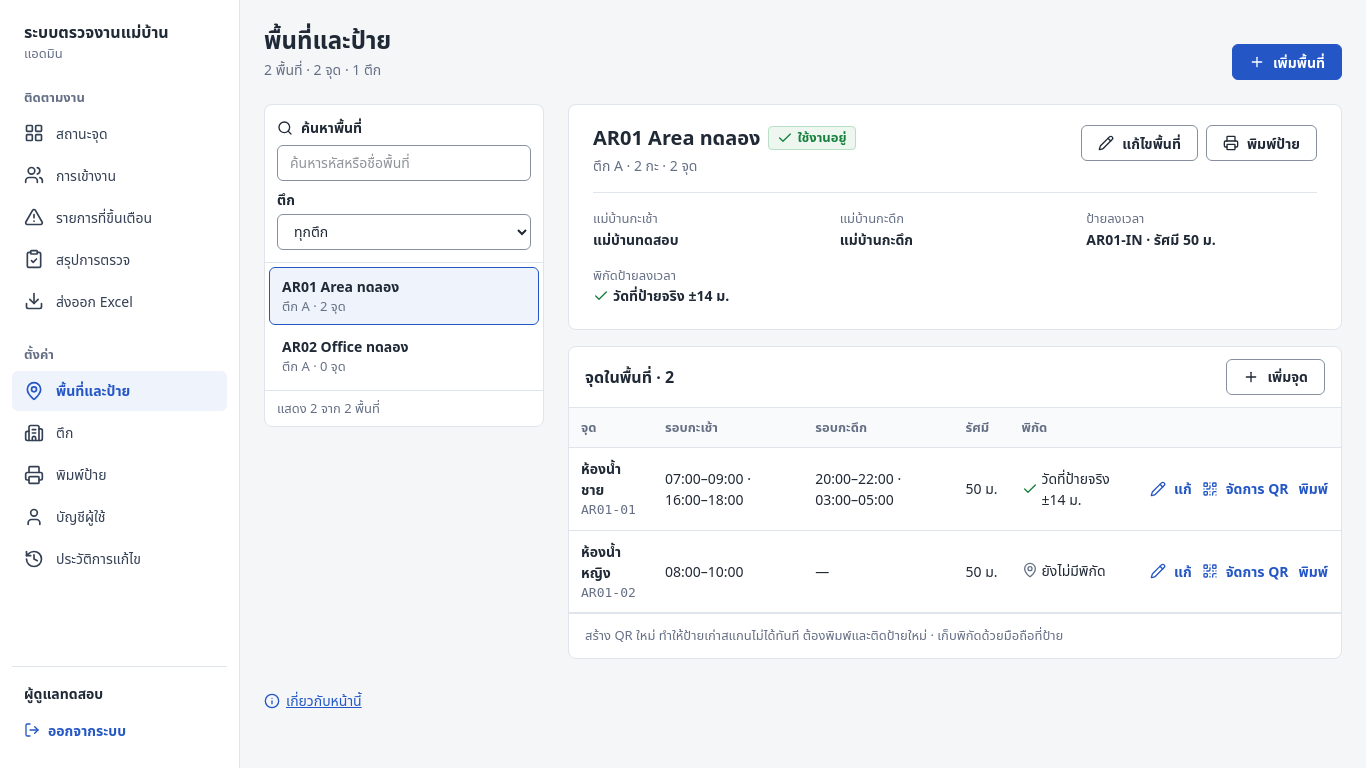
Test case: SignPanel (D4, facility-0045, 0038, 0021) › a sign with no location takes coordinates typed from a map, as not confirmed on site
Click the button with aria-label "แก้ไข AR01-02". click: point(1171, 571)
box: [1149,553,1193,589]
(page scrolled)
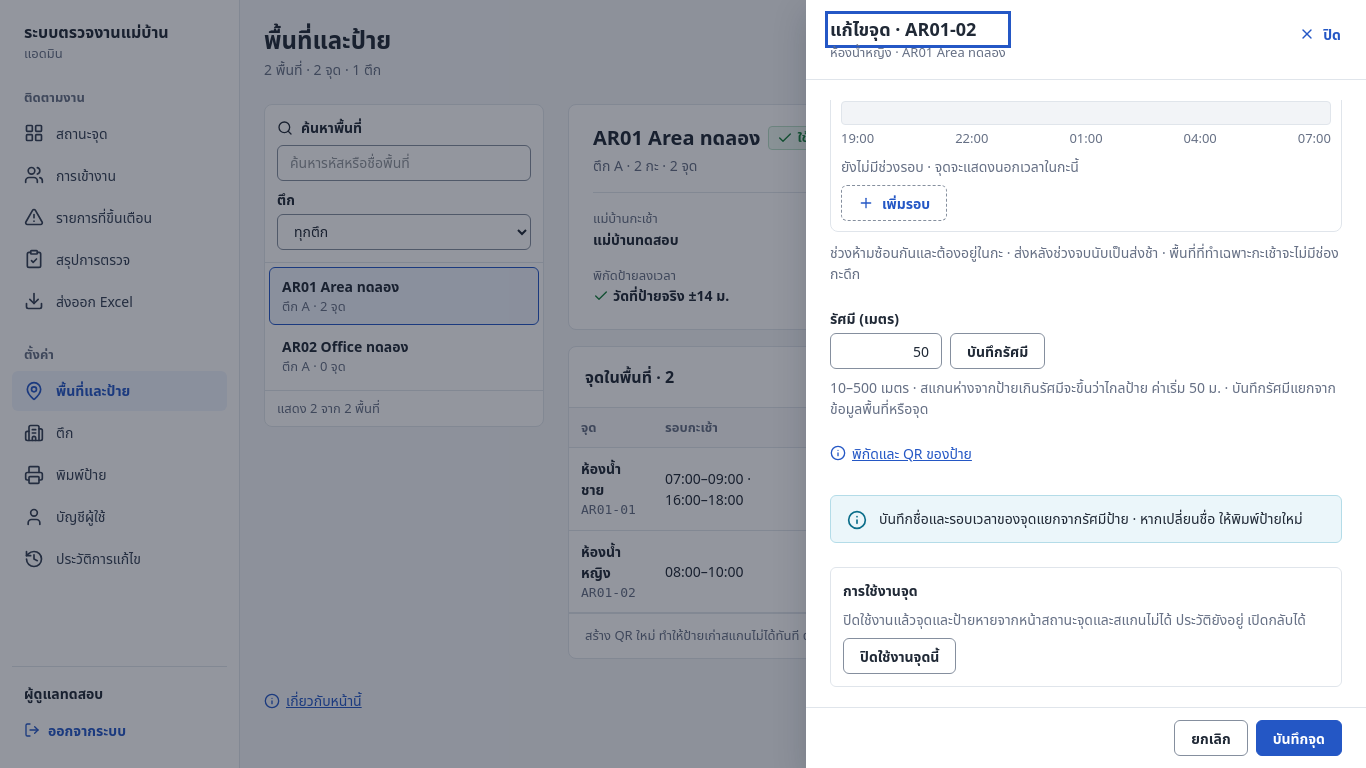
Click the heading "พิกัดและ QR ของป้าย". click: point(901, 453)
box: [830,444,972,462]
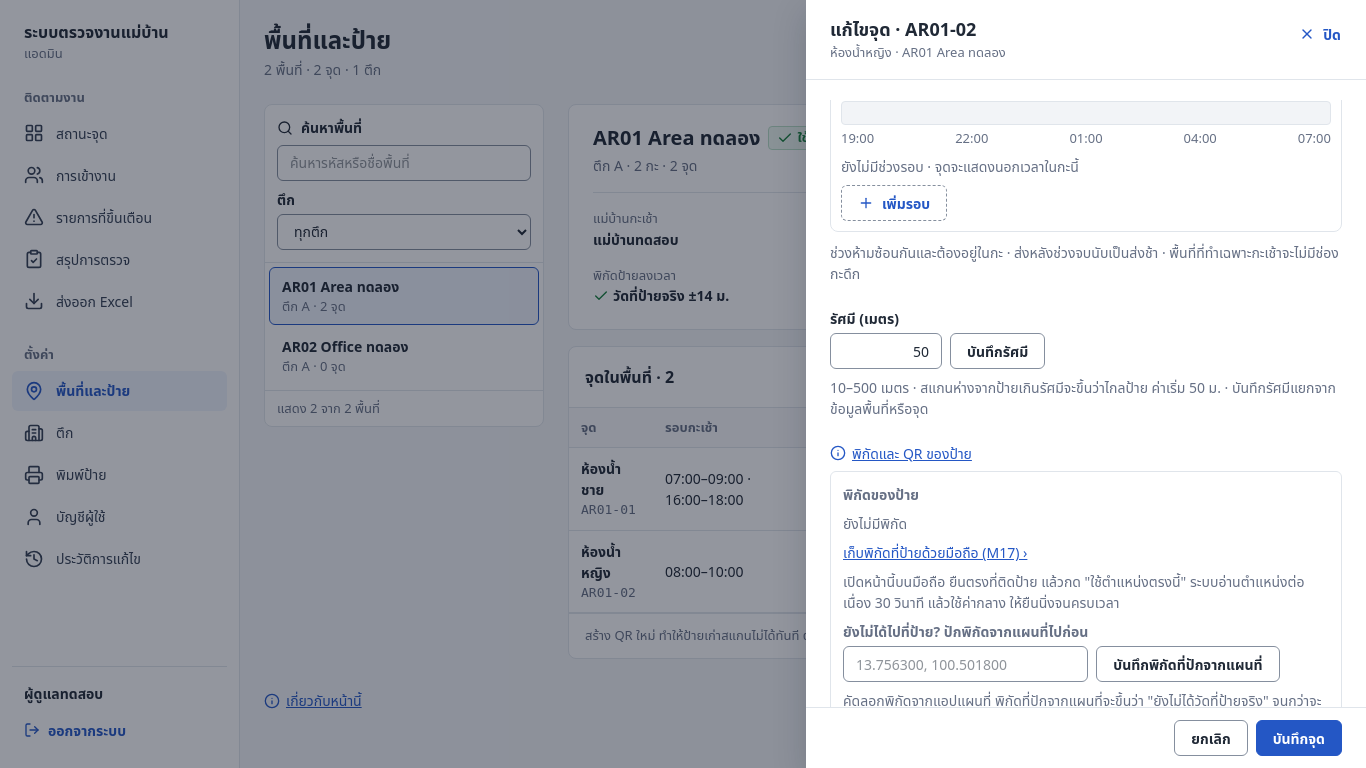
Expected: the text "ยังไม่มีพิกัด" is shown, [843,514,907,533]
Type "ตึก A" into the field labelled "ยังไม่ได้ไปที่ป้าย? ปักพิกัดจากแผนที่ไปก่อน". click: point(966, 664)
box: [843,646,1088,682]
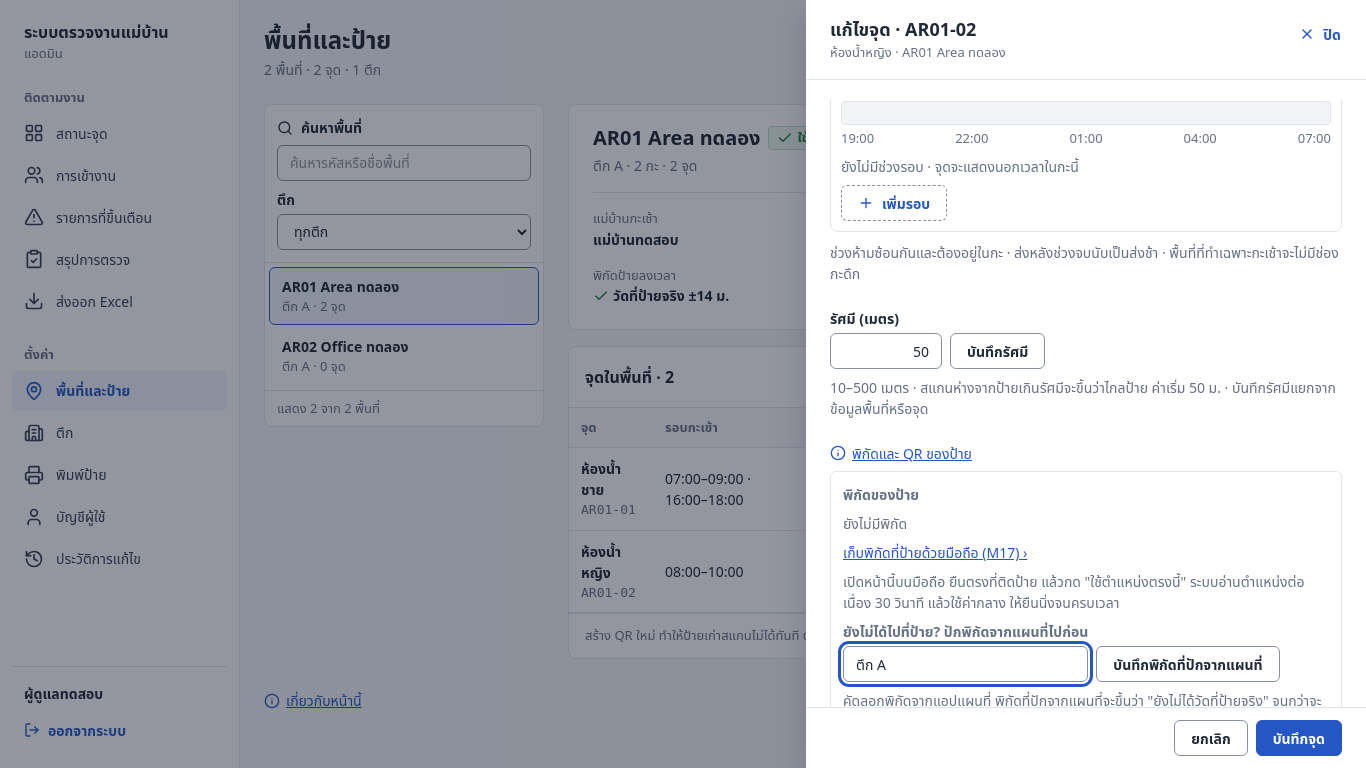
Click the button "บันทึกพิกัดที่ปักจากแผนที่". click: point(1188, 664)
box: [1096,646,1280,682]
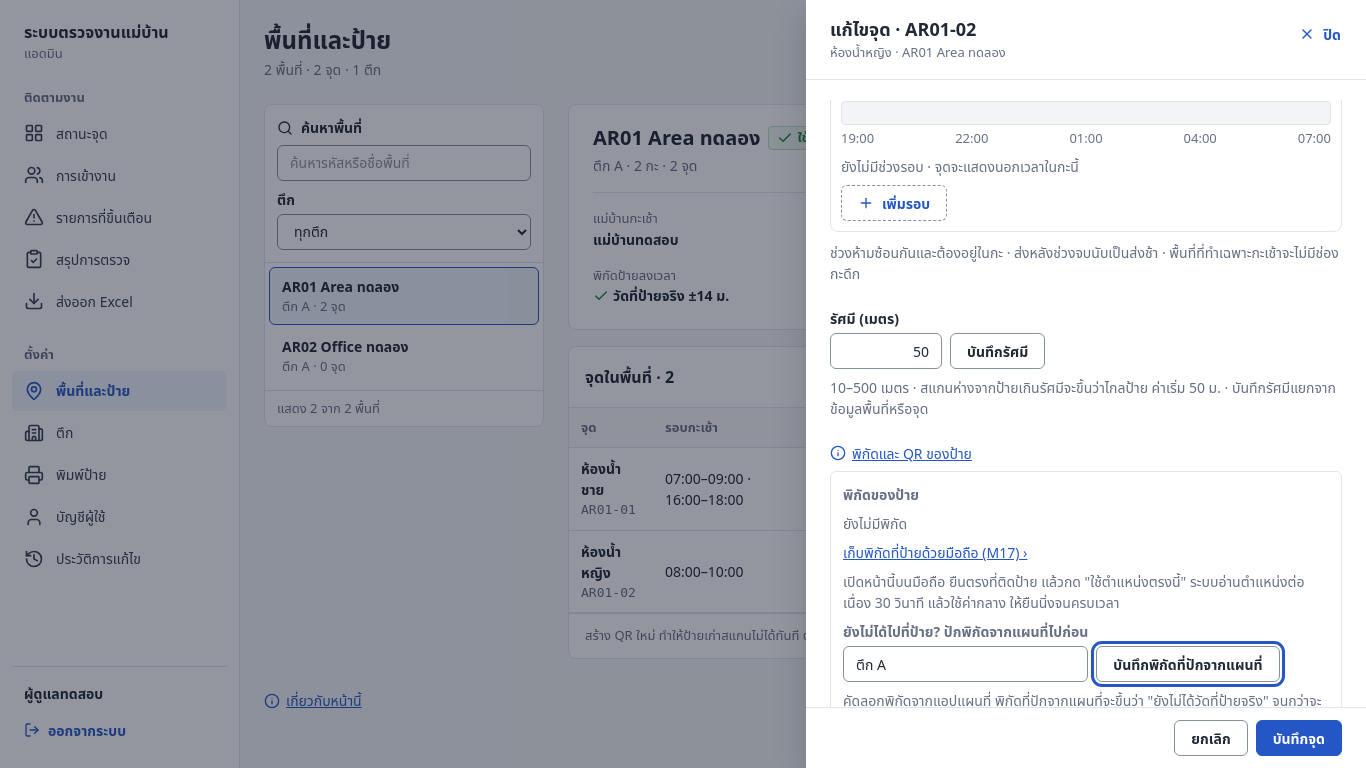
Replace the text in the field labelled "ยังไม่ได้ไปที่ป้าย? ปักพิกัดจากแผนที่ไปก่อน" with "13.7563, 100.5018". click: point(966, 664)
box: [843,646,1088,682]
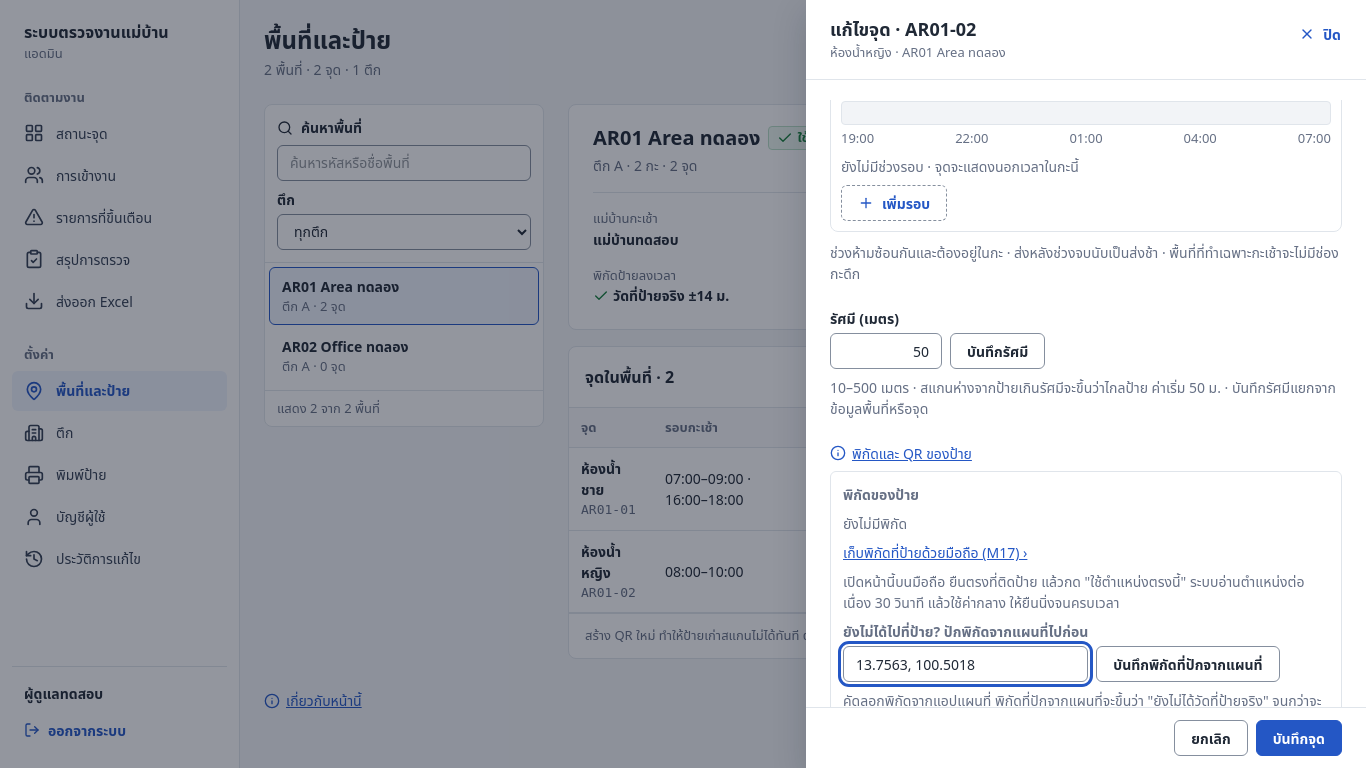
Click the button "บันทึกพิกัดที่ปักจากแผนที่". click: point(1188, 664)
box: [1096,646,1280,682]
(page scrolled)
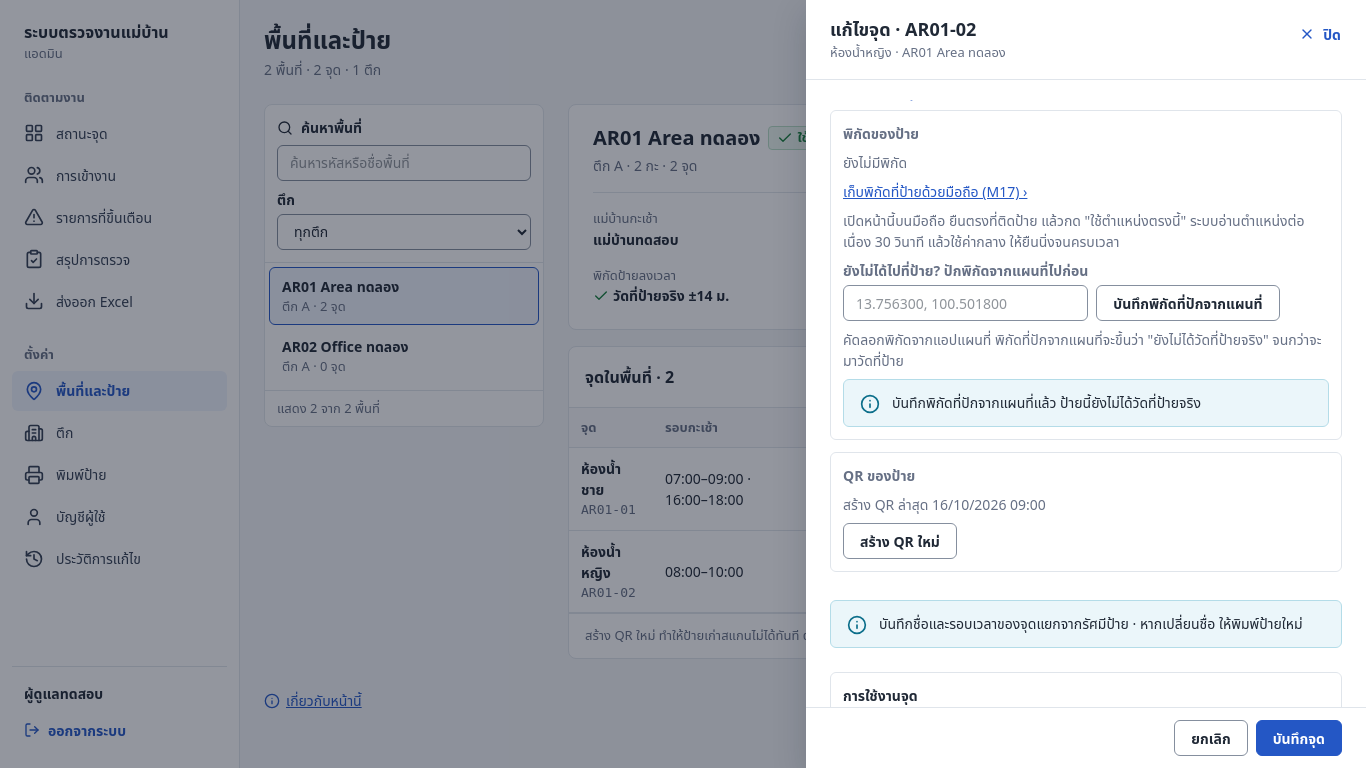
Expected: the message reads "บันทึกพิกัดที่ปักจากแผนที่แล้ว ป้ายนี้ยังไม่ได้วัดที่ป้ายจริง", [892,393,1201,412]
